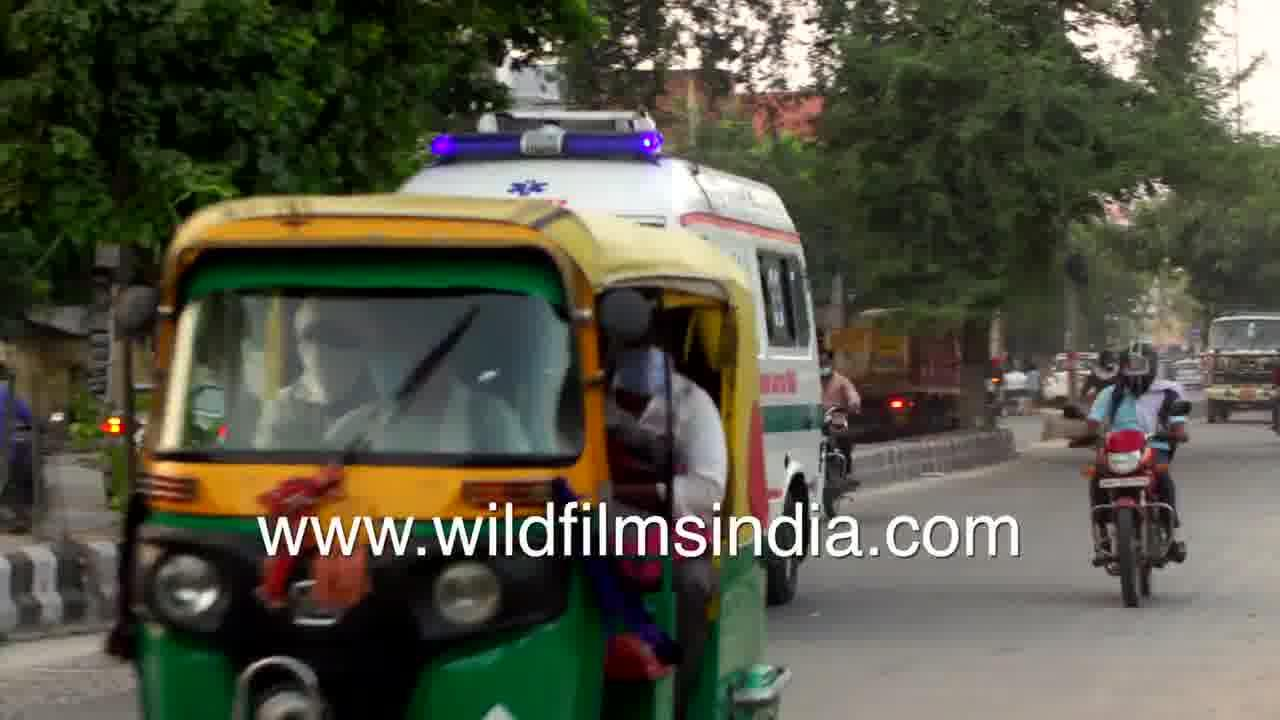AMBULANCE: (349, 102, 806, 211), (758, 176, 826, 604)
